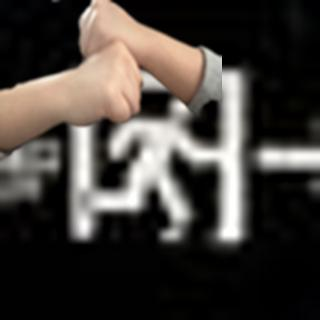CAREFUL: (10, 1, 211, 130)
